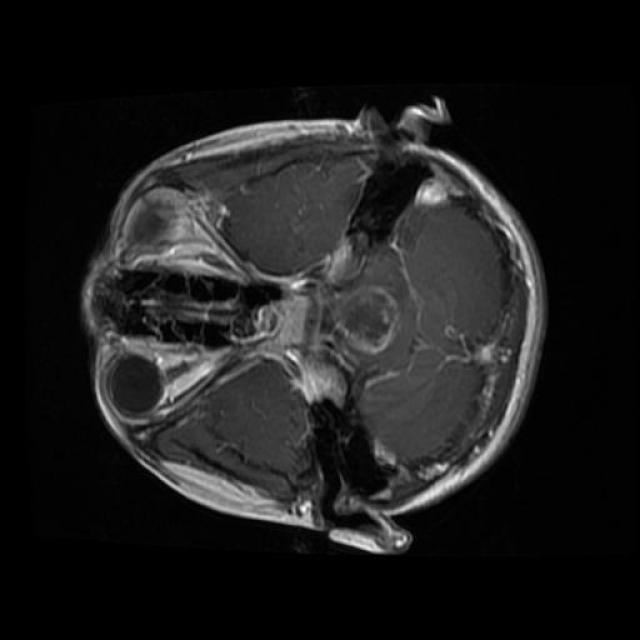Glioma: (337, 286, 401, 355)
